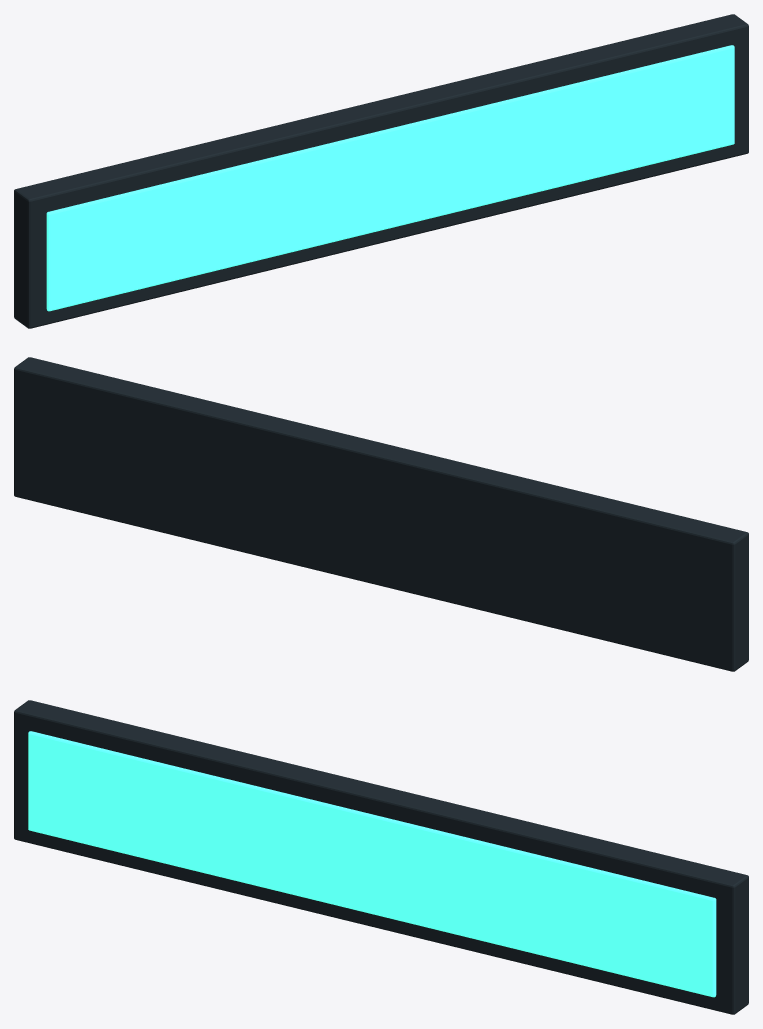
The model's file is CC_S16_P2_Architecture_StoreSign_LOD0.fbx.
The picture shows the model from 3 angles, top to bottom: view 1: azimuth 30°, elevation 25°; view 2: azimuth 150°, elevation 25°; view 3: azimuth 330°, elevation 25°; orthographic projection.
Visible parts, largest first — view 1: CC_S16_P2_Architecture_StoreSign_LOD0_Face, CC_S16_P2_Architecture_StoreSign_LOD0_Housing; view 2: CC_S16_P2_Architecture_StoreSign_LOD0_Housing; view 3: CC_S16_P2_Architecture_StoreSign_LOD0_Face, CC_S16_P2_Architecture_StoreSign_LOD0_Housing.
Boxes of the visible parts, <box> form: CC_S16_P2_Architecture_StoreSign_LOD0_Face: <box>46,45,734,311</box>; CC_S16_P2_Architecture_StoreSign_LOD0_Housing: <box>14,14,748,328</box>; CC_S16_P2_Architecture_StoreSign_LOD0_Housing: <box>14,357,748,671</box>; CC_S16_P2_Architecture_StoreSign_LOD0_Face: <box>28,731,716,997</box>; CC_S16_P2_Architecture_StoreSign_LOD0_Housing: <box>14,700,748,1014</box>.
Size of what is drawn, in the model's own units: 3.2 by 0.55 by 0.141.
